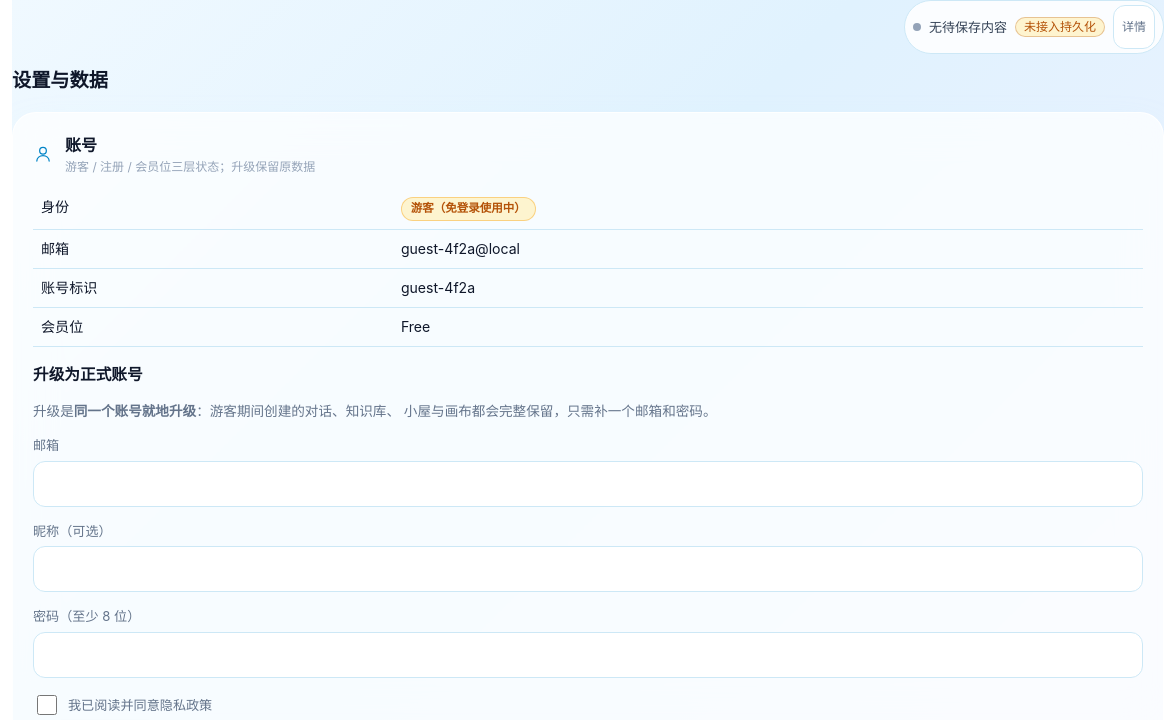
Test: 设置页账号卡 · 账号三层（W8） › 升级失败展示后端返回的真实原因，不伪装成成功
The width and height of the screenshot is (1164, 720).
Type "taken@example.com" into the field with test id "upgrade-email" at (588, 484), box 33,460 -> 1143,506
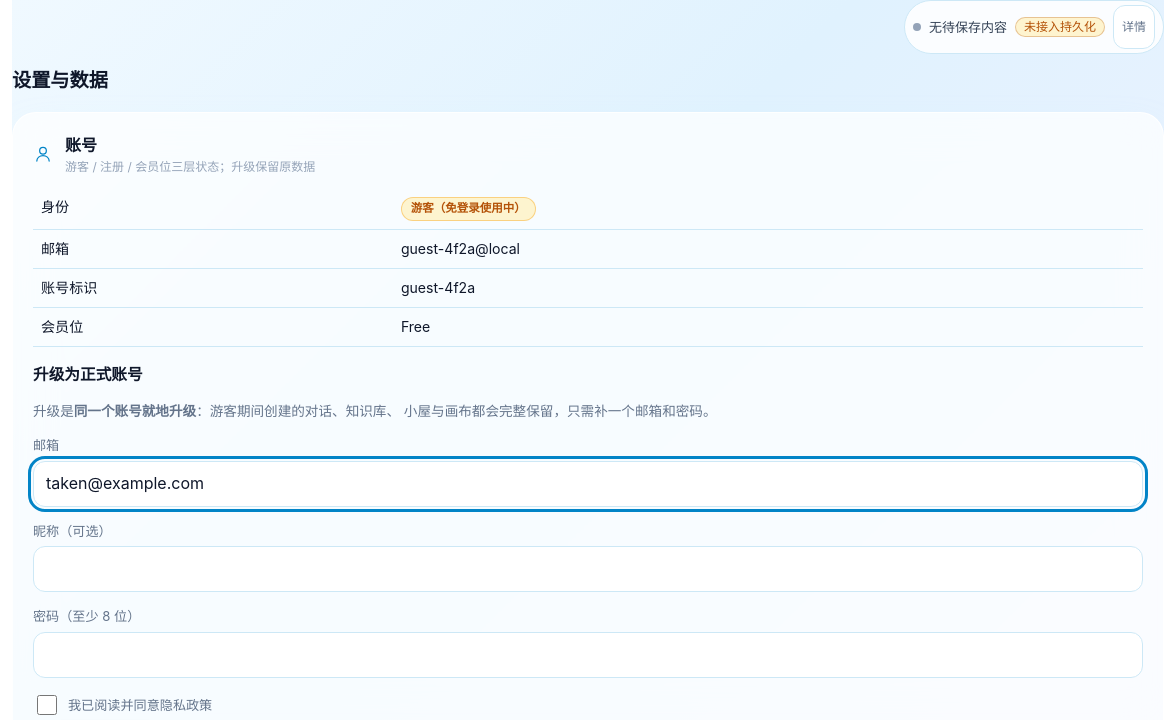
Type "correct-horse" into the password field with test id "upgrade-password" at (588, 654), box 33,632 -> 1143,678
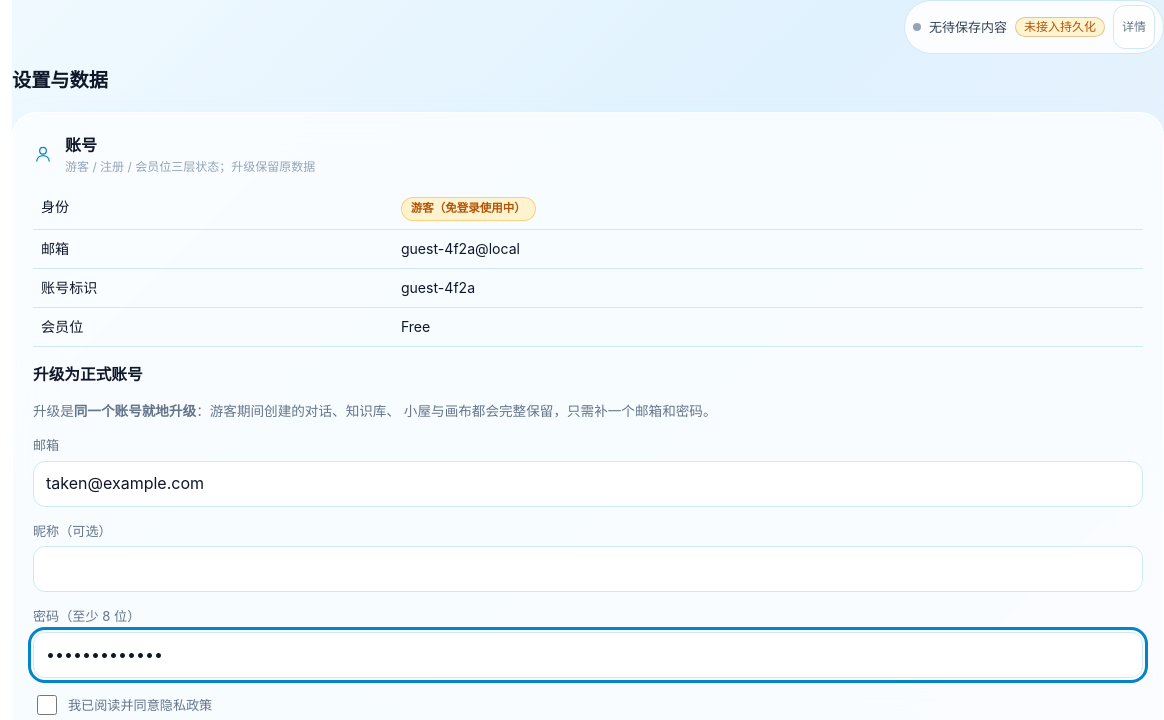
Click the checkbox with test id "upgrade-consent" at (47, 705), box 37,695 -> 57,715
(page scrolled)
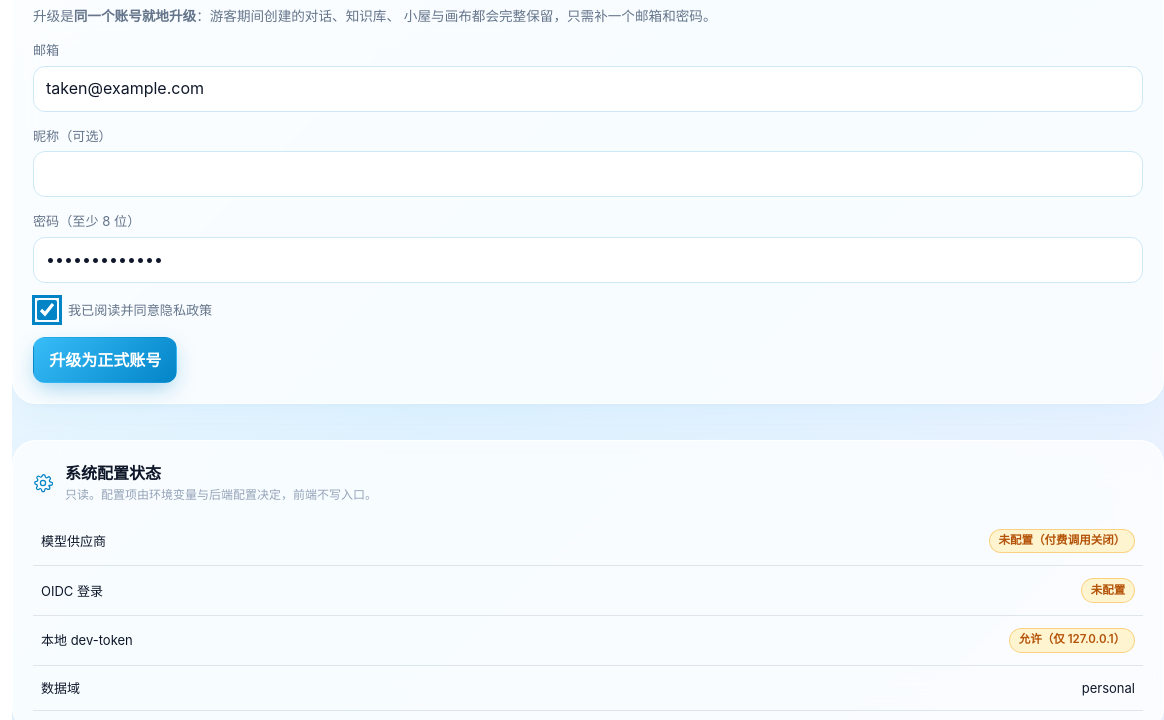
Click the button with test id "upgrade-submit" at (105, 360), box 33,337 -> 177,383
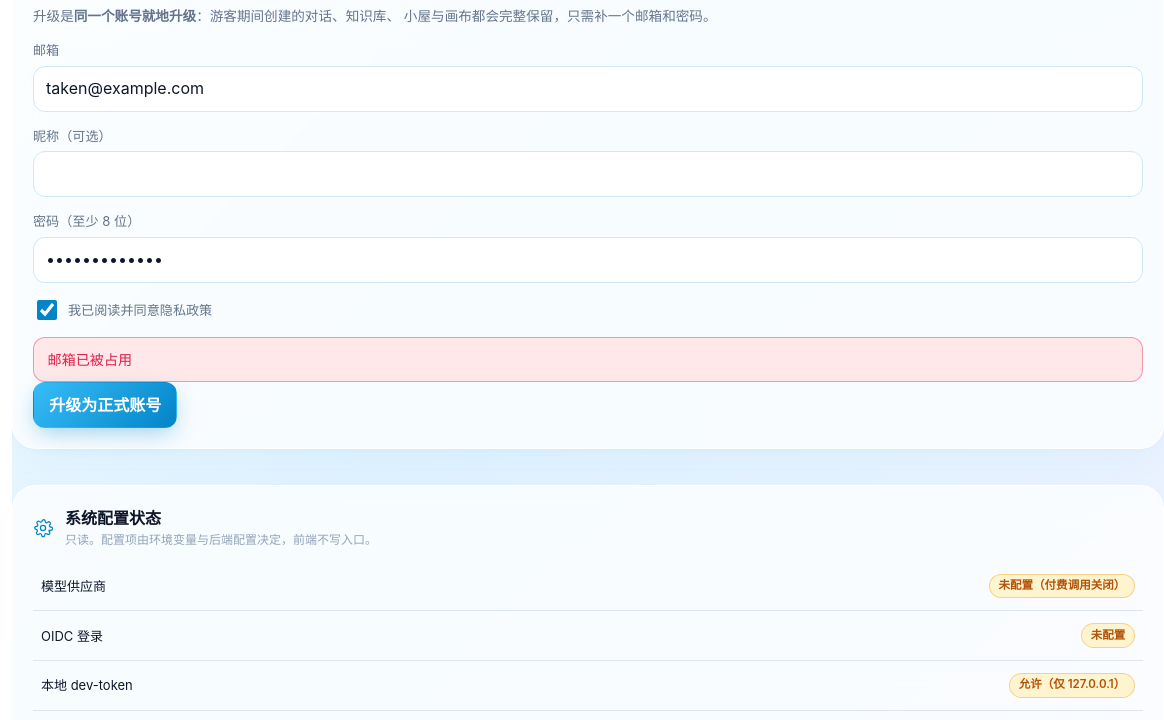
Check: the message with test id "upgrade-error" reads "邮箱已被占用", box 48,351 -> 132,368
